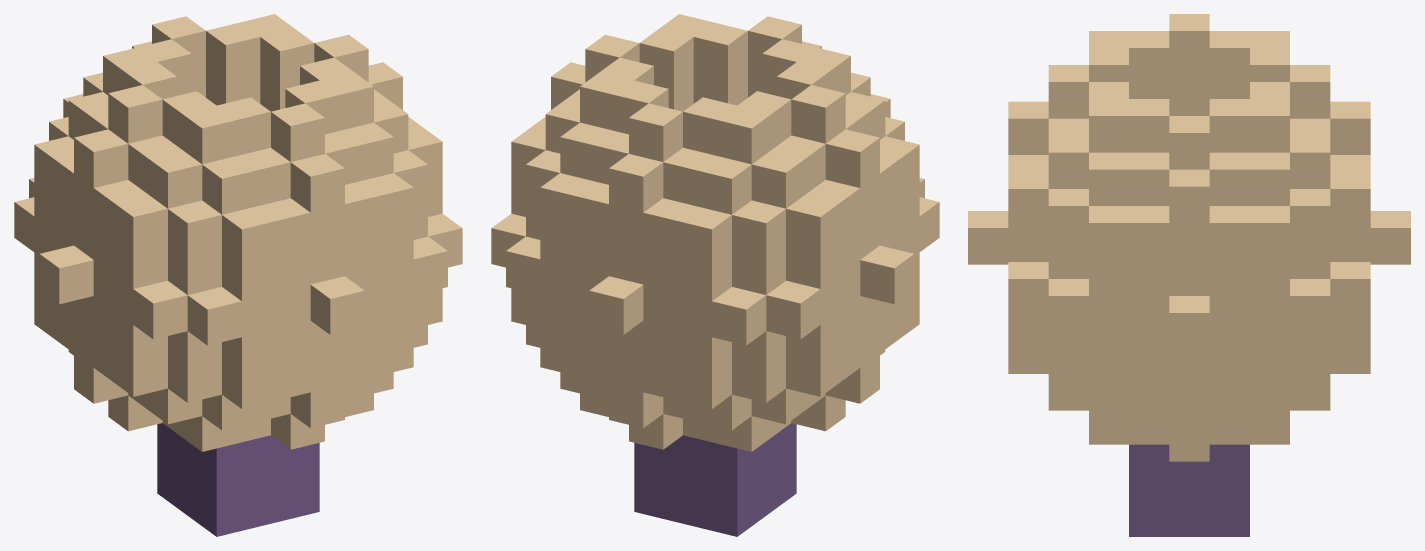
Rendered from alien-biosphere-spore-puff-5f32ebf2__22805.glb.
The picture shows the model from 3 angles, left to right: view 1: azimuth 30°, elevation 25°; view 2: azimuth 150°, elevation 25°; view 3: azimuth 270°, elevation 25°; orthographic projection.
Visible parts, largest first — view 1: spore-puff; view 2: spore-puff; view 3: spore-puff.
Part boxes in pixels (x1,y1,x2,y2): spore-puff: (14, 14, 462, 536); spore-puff: (491, 14, 939, 536); spore-puff: (968, 14, 1410, 536).
Bounding box in the file's own units: 1.43 × 1.56 × 1.43.
